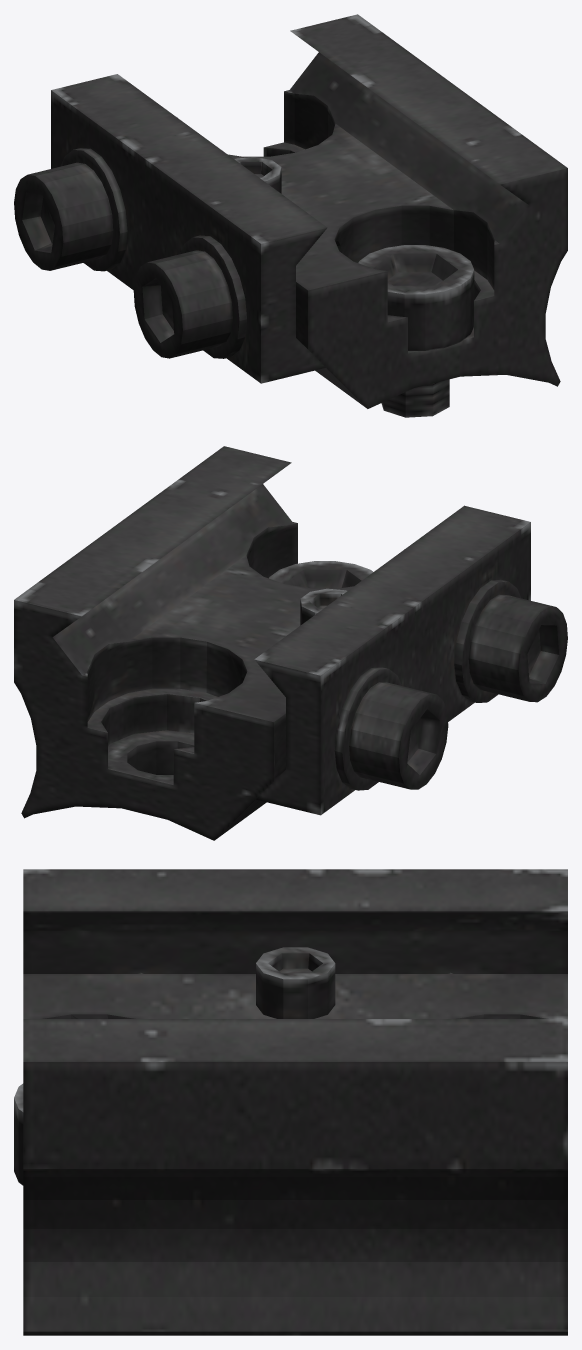
3 views of the same model, one above another, from view 1: azimuth 30°, elevation 25°; view 2: azimuth 150°, elevation 25°; view 3: azimuth 270°, elevation 25° (orthographic). The views are drawn at different scales.
Visible parts, largest first — view 1: TW_646f6322f43d0c5d62063715_PZ_Import; view 2: TW_646f6322f43d0c5d62063715_PZ_Import; view 3: TW_646f6322f43d0c5d62063715_PZ_Import.
Part boxes in pixels (left/top/right/bottom): TW_646f6322f43d0c5d62063715_PZ_Import: left=14, top=14, right=567, bottom=417; TW_646f6322f43d0c5d62063715_PZ_Import: left=14, top=446, right=567, bottom=840; TW_646f6322f43d0c5d62063715_PZ_Import: left=14, top=869, right=567, bottom=1335.
Bounding box in the file's own units: 0.02 × 0.0203 × 0.0117.
Materials: 1 (1 with a texture image).
